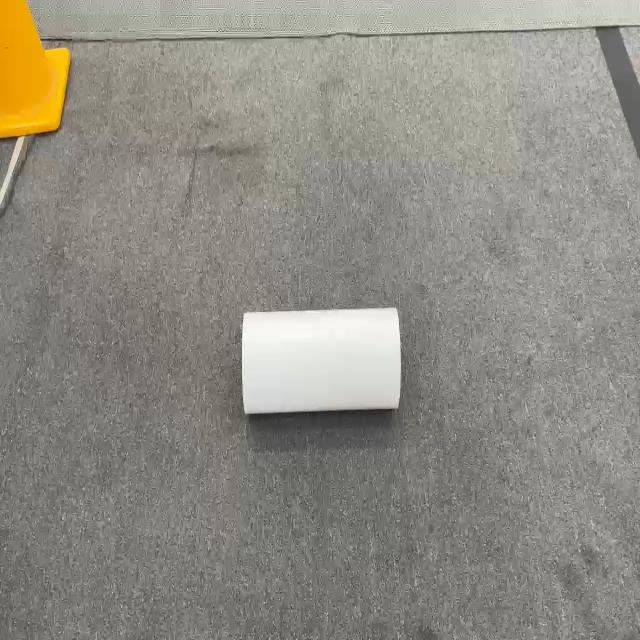coral: (240, 305, 402, 415)
